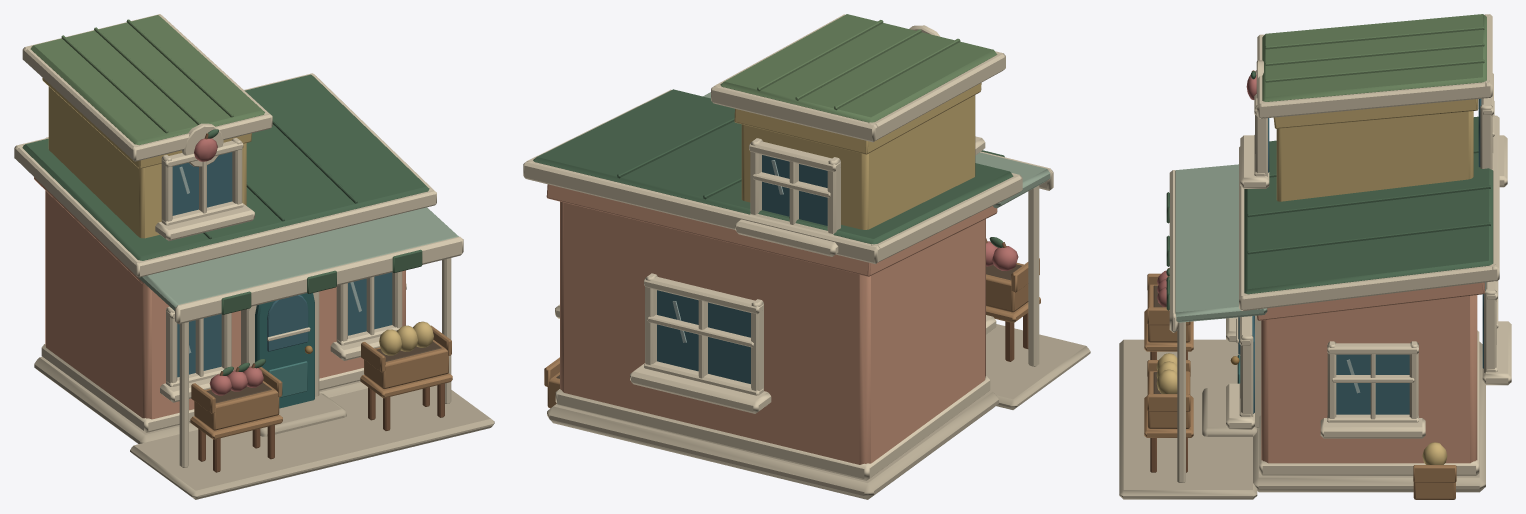
The model's file is grocer_level_3.glb.
3 views of the same model, side by side, from view 1: azimuth 30°, elevation 25°; view 2: azimuth 150°, elevation 25°; view 3: azimuth 270°, elevation 25° (orthographic). The views are drawn at different scales.
Parts seen in each view (by area): view 1: grocer_level_3_runtime; view 2: grocer_level_3_runtime; view 3: grocer_level_3_runtime.
Boxes of the visible parts, box(x1,y1,x2,y2) form: grocer_level_3_runtime: box(14, 14, 494, 499); grocer_level_3_runtime: box(523, 14, 1090, 499); grocer_level_3_runtime: box(1119, 14, 1511, 499).
Size of the model in its own units: 3.88 by 3.92 by 4.07.
